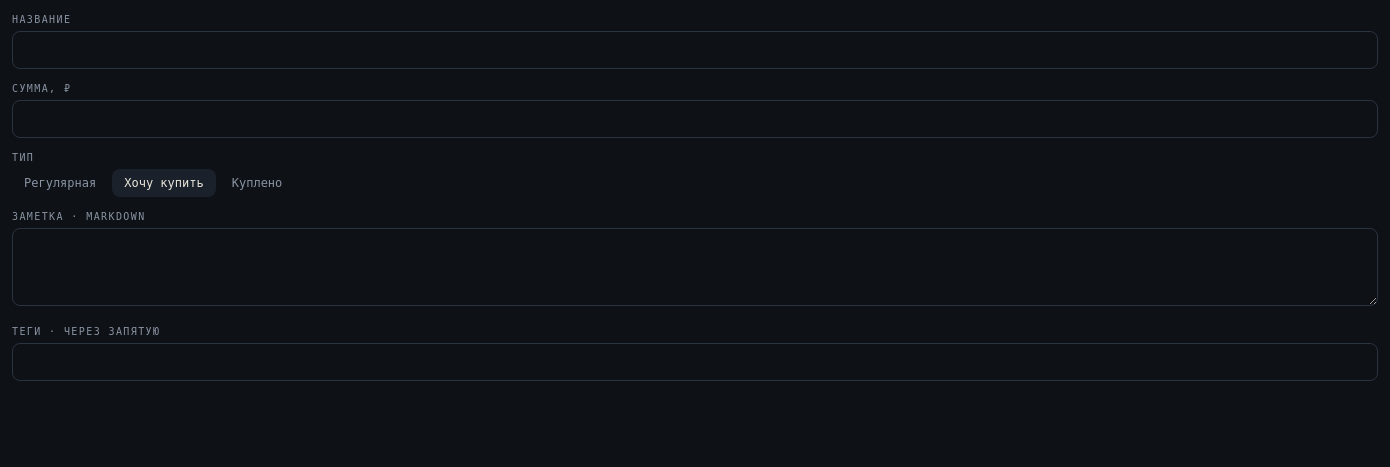
it: ExpenseForm › дата покупки видна только у купленной
Expected: the field labelled "Дата покупки" is not shown
Click the radio button labelled "Куплено" at coordinates (257, 183), box [232,176,282,190]
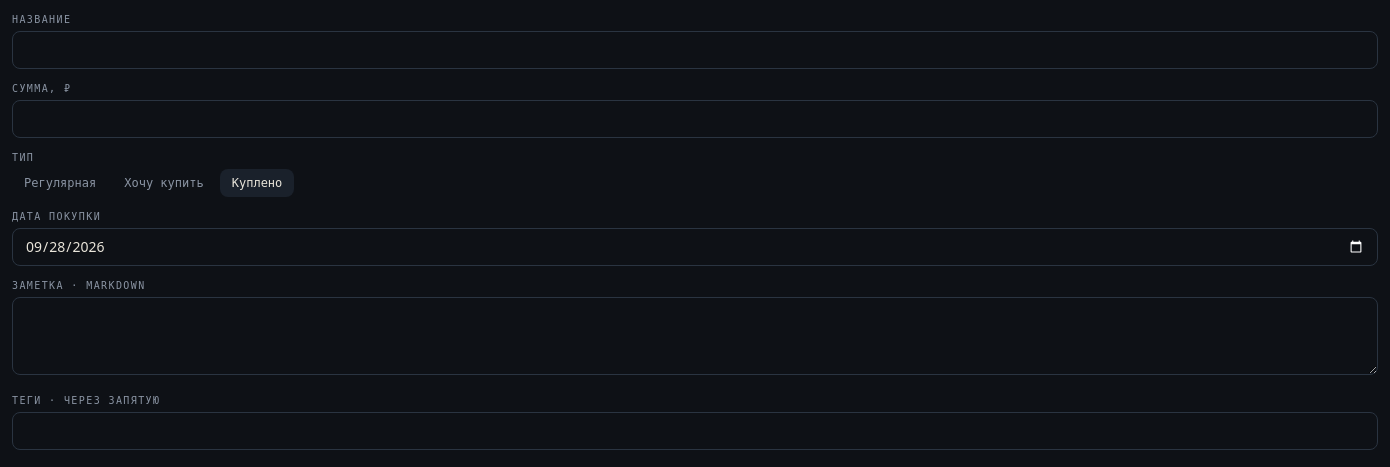
Now the date field labelled "Дата покупки" is shown, box [12,228,1378,266]
